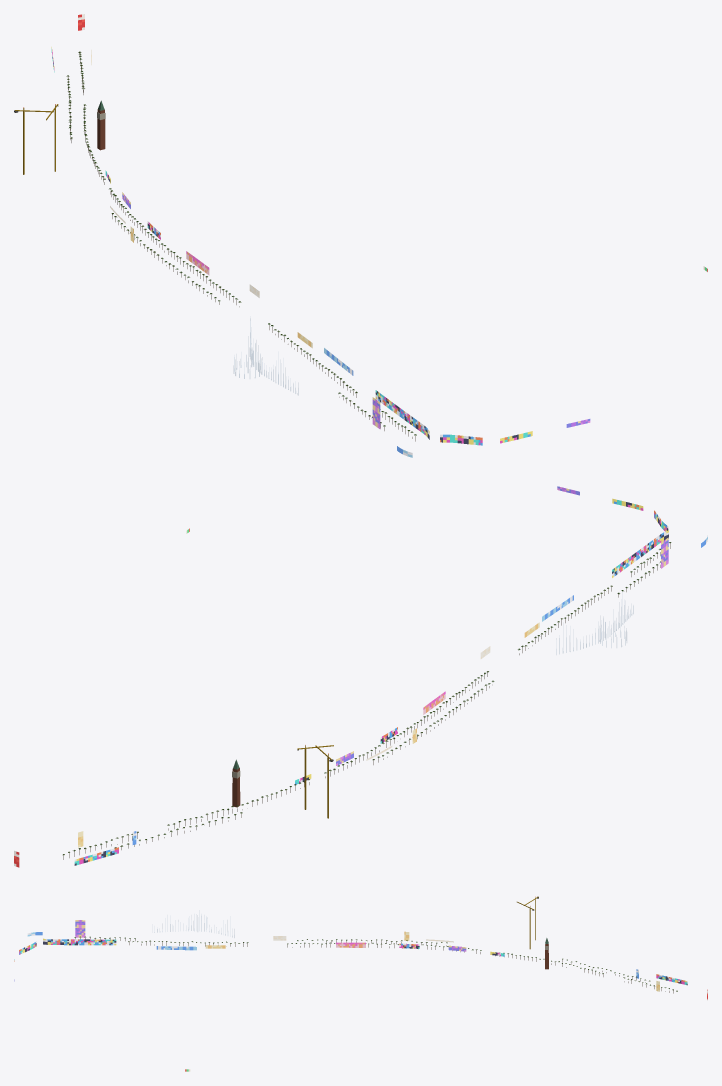
File: strip.glb
The picture shows the model from 3 angles, top to bottom: view 1: azimuth 30°, elevation 25°; view 2: azimuth 150°, elevation 25°; view 3: azimuth 270°, elevation 25°; orthographic projection. The views are drawn at different scales.
Visible parts, largest first — view 1: strip; view 2: strip; view 3: strip.
Part boxes in pixels (x1,y1,x2,y2): strip: (14,14,707,457); strip: (14,486,707,867); strip: (14,896,707,1071).
Bounding box in the file's own units: 977 × 143 × 1960.
